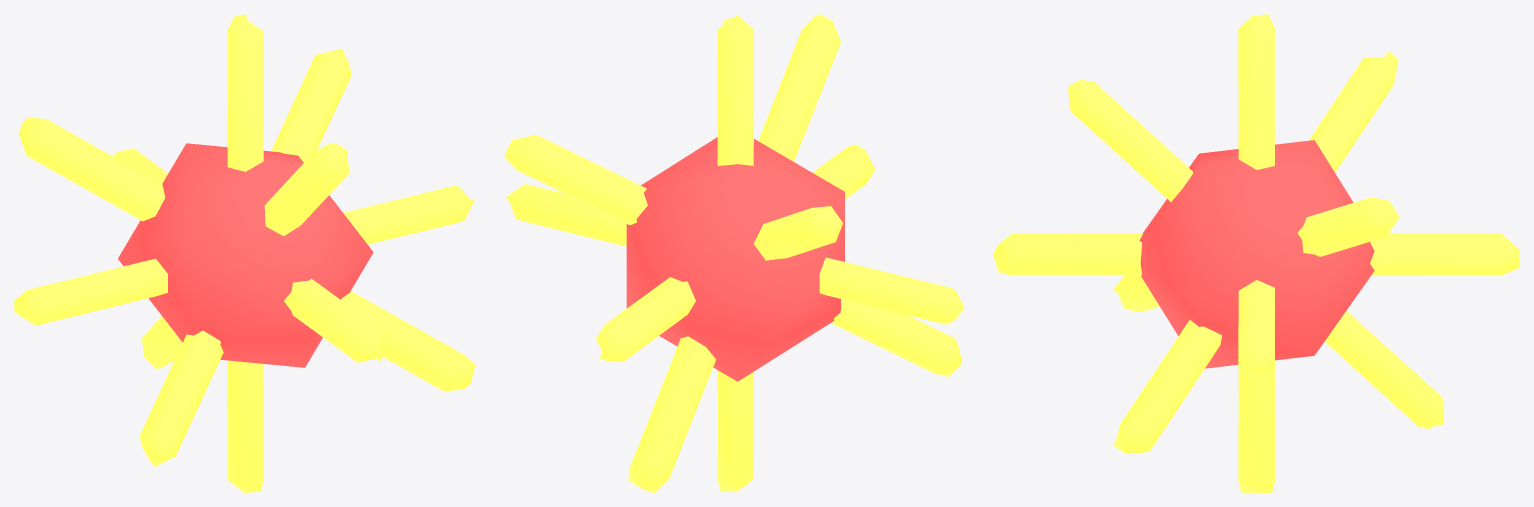
File: Spark_2obj.fbx
3 renders of one model, left to right at view 1: azimuth 30°, elevation 25°; view 2: azimuth 150°, elevation 25°; view 3: azimuth 270°, elevation 25°, orthographic.
Parts seen in each view (by area): view 1: Surge_Spike, SurgeBody; view 2: Surge_Spike, SurgeBody; view 3: Surge_Spike, SurgeBody.
Part boxes in pixels (x1=…): Surge_Spike: x1=14, y1=14, x2=475, y2=492; SurgeBody: x1=118, y1=143, x2=373, y2=367; Surge_Spike: x1=504, y1=14, x2=964, y2=492; SurgeBody: x1=626, y1=137, x2=844, y2=381; Surge_Spike: x1=993, y1=14, x2=1519, y2=492; SurgeBody: x1=1139, y1=140, x2=1374, y2=368.
Bounding box in the file's own units: 1512 × 1512 × 1512.
